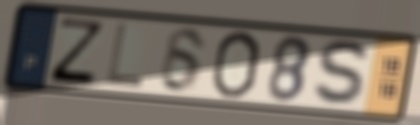6: (157, 27, 209, 94)
8: (265, 34, 313, 105)
L: (103, 21, 147, 90)
O: (208, 29, 264, 101)
S: (310, 38, 375, 110)
Z: (46, 16, 107, 88)
